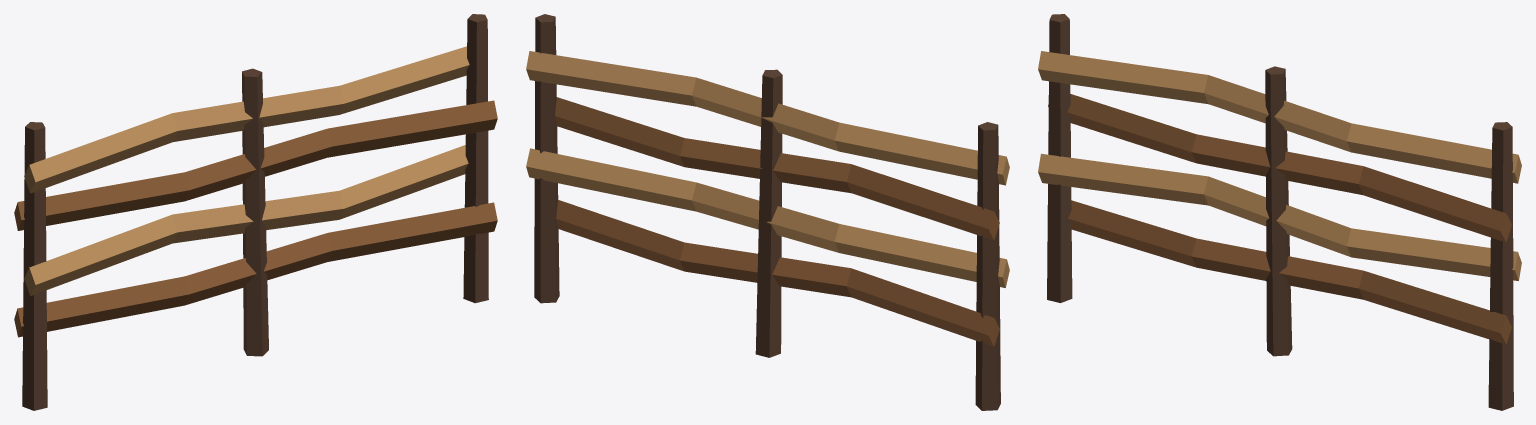
Rendered from Dorf_Flechtzaun.fbx.
3 views of the same model, side by side, from view 1: azimuth 30°, elevation 25°; view 2: azimuth 150°, elevation 25°; view 3: azimuth 330°, elevation 25° (orthographic).
Visible parts, largest first — view 1: Dorf_Flechtzaun; view 2: Dorf_Flechtzaun; view 3: Dorf_Flechtzaun.
Boxes of the visible parts, x1,y1,x2,y2 form: Dorf_Flechtzaun: (14, 14, 497, 410); Dorf_Flechtzaun: (526, 14, 1009, 410); Dorf_Flechtzaun: (1038, 14, 1521, 410).
Bounding box in the file's own units: 2.01 × 1.15 × 0.16.
